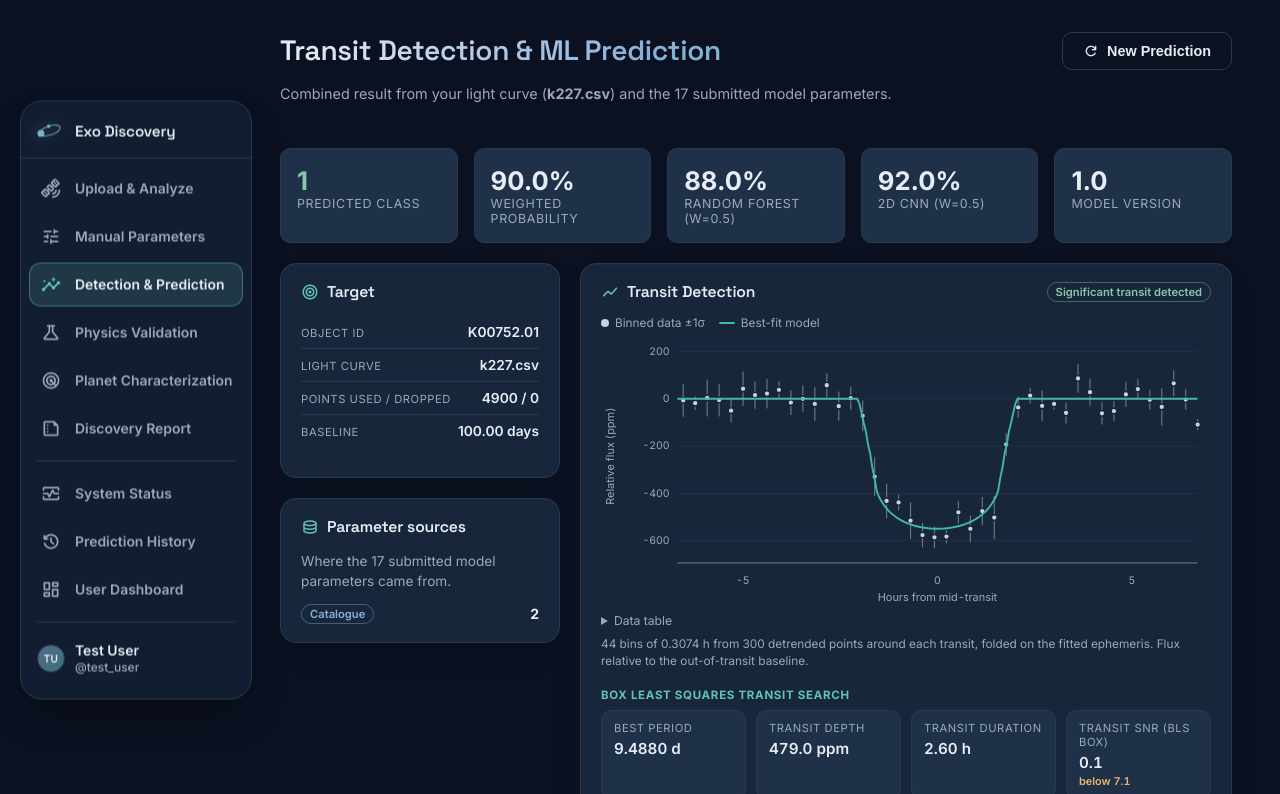
Test case: Planet characterization dashboard › classifications show their basis, inputs and the habitability disclaimer
Click the link "Planet Characterization" at [137, 380], box [41,368,233,392]
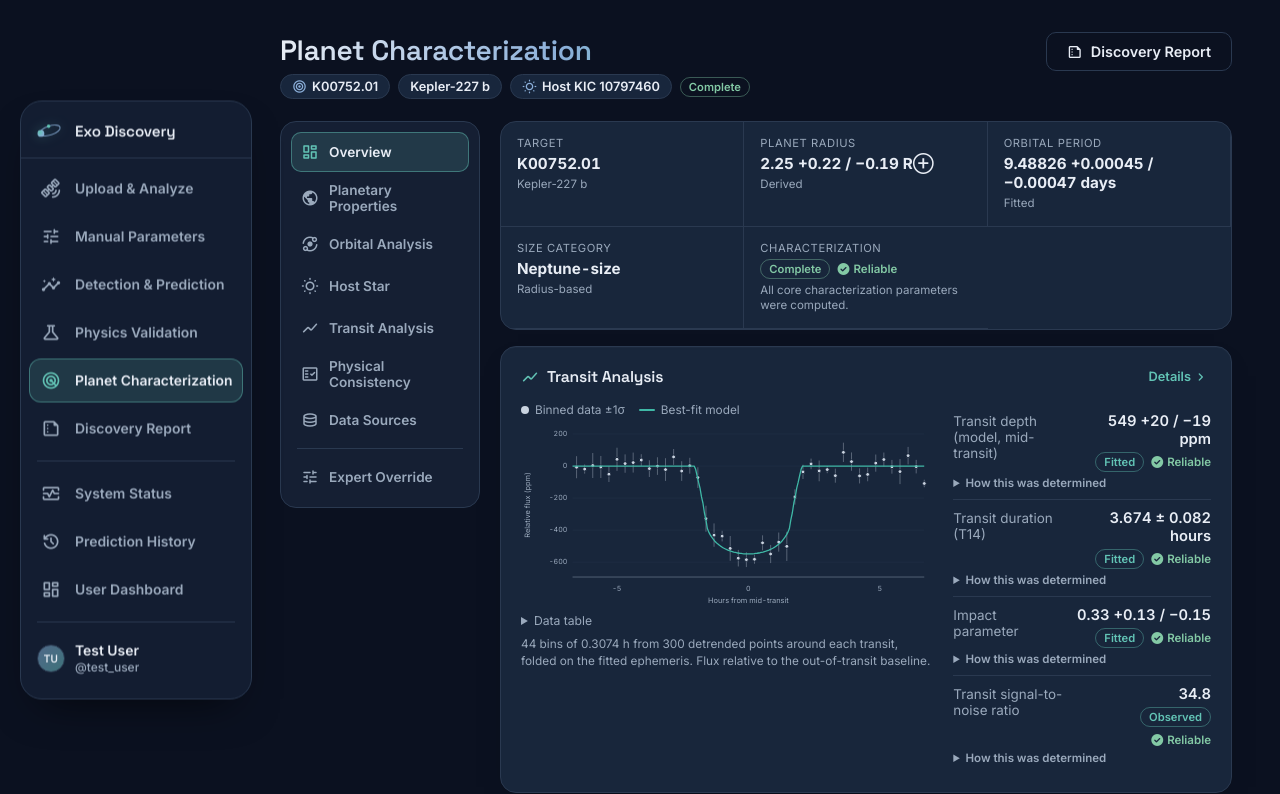
Click the button "Planetary Properties" at [380, 198], box [291,174,469,222]
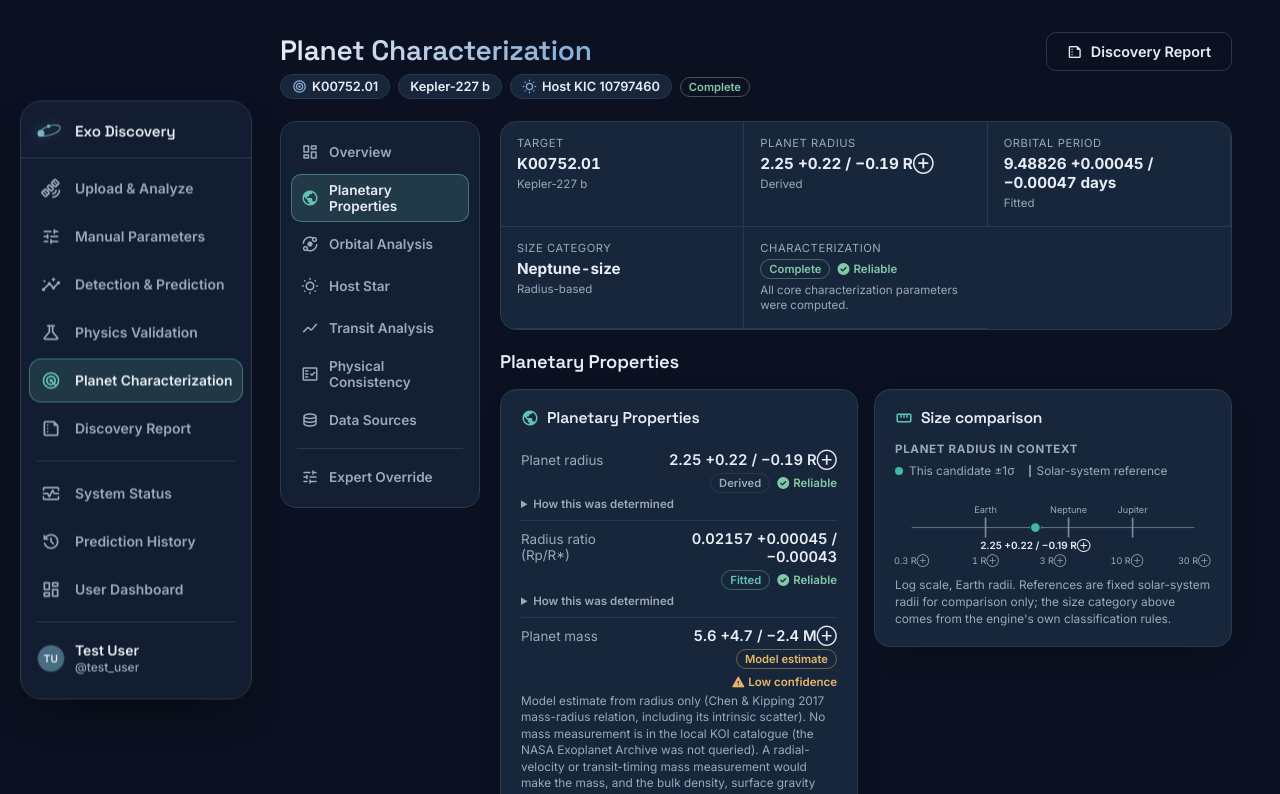
Check: the element with test id "radius-scale" is shown, box [895,442,1211,628]
